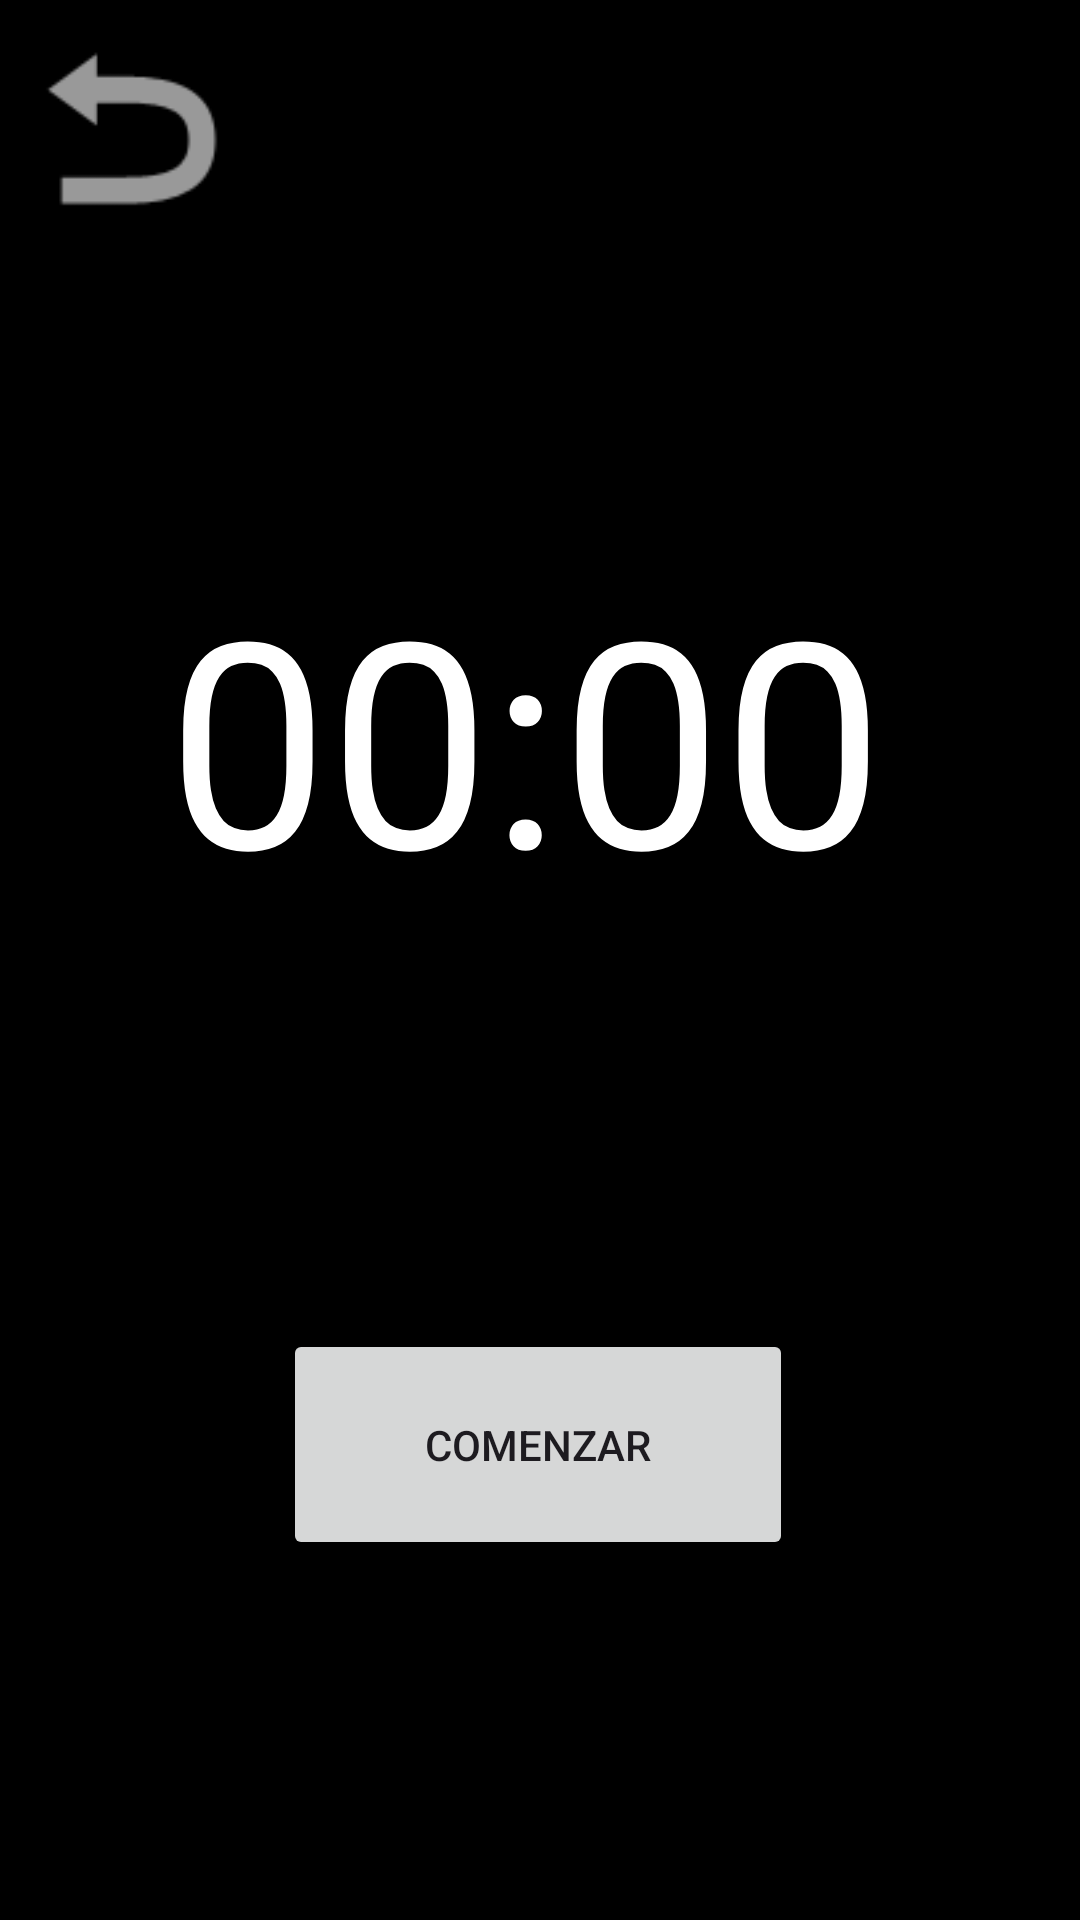

Screen size 1080*1920. Icon name, then its box in pixels as (x1, y1, x2, y2):
revert: (48, 53, 217, 205)
